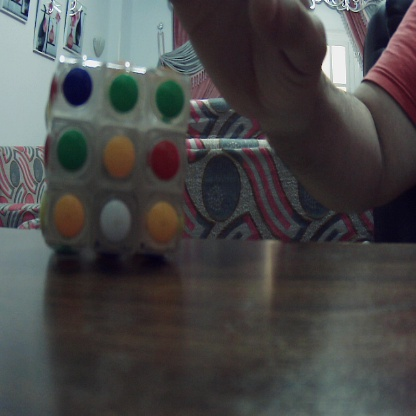Rubix Cube: (45, 60, 183, 254)
